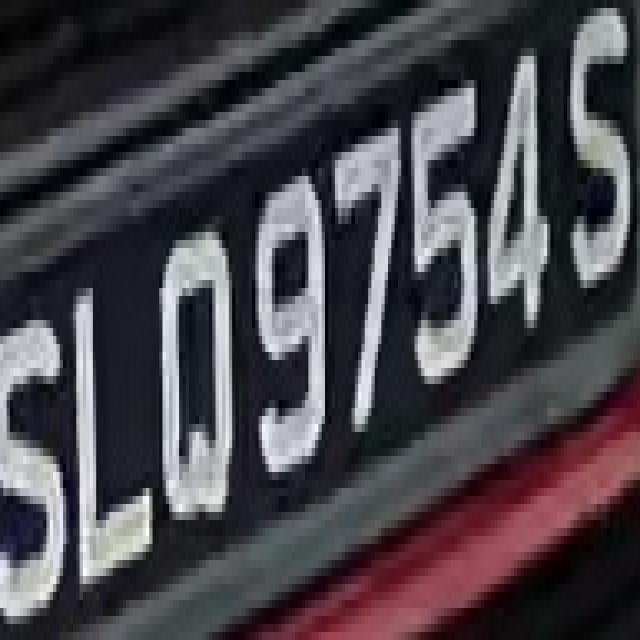4: (474, 40, 554, 352)
5: (401, 80, 481, 424)
7: (328, 128, 405, 456)
9: (242, 176, 338, 488)
L: (70, 264, 159, 616)
Q: (156, 208, 239, 560)
S: (10, 272, 76, 640), (564, 0, 630, 320)
